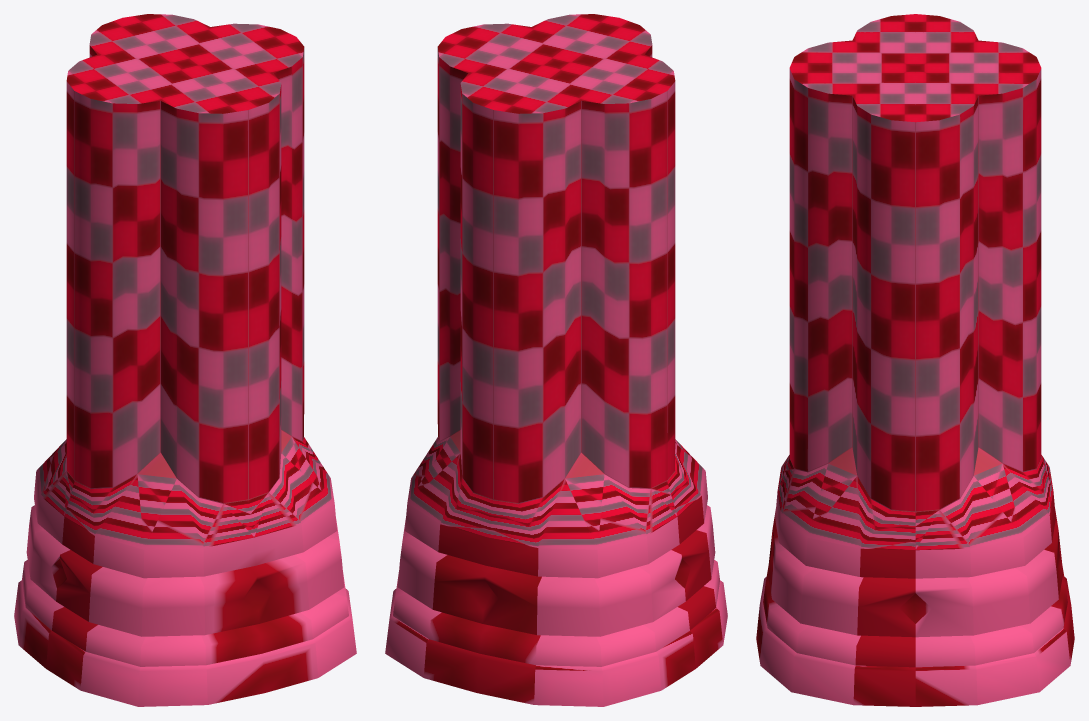
File: wall_small4_base.obj
3 views of the same model, side by side, from view 1: azimuth 30°, elevation 25°; view 2: azimuth 150°, elevation 25°; view 3: azimuth 270°, elevation 25° (orthographic).
Size of the model in its own units: 1.02 by 2 by 1.01.
1 material, 1 textured.
